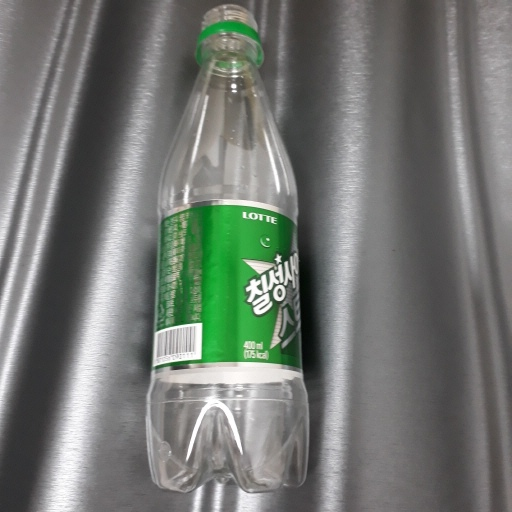Plastic_0: (150, 3, 311, 497)
